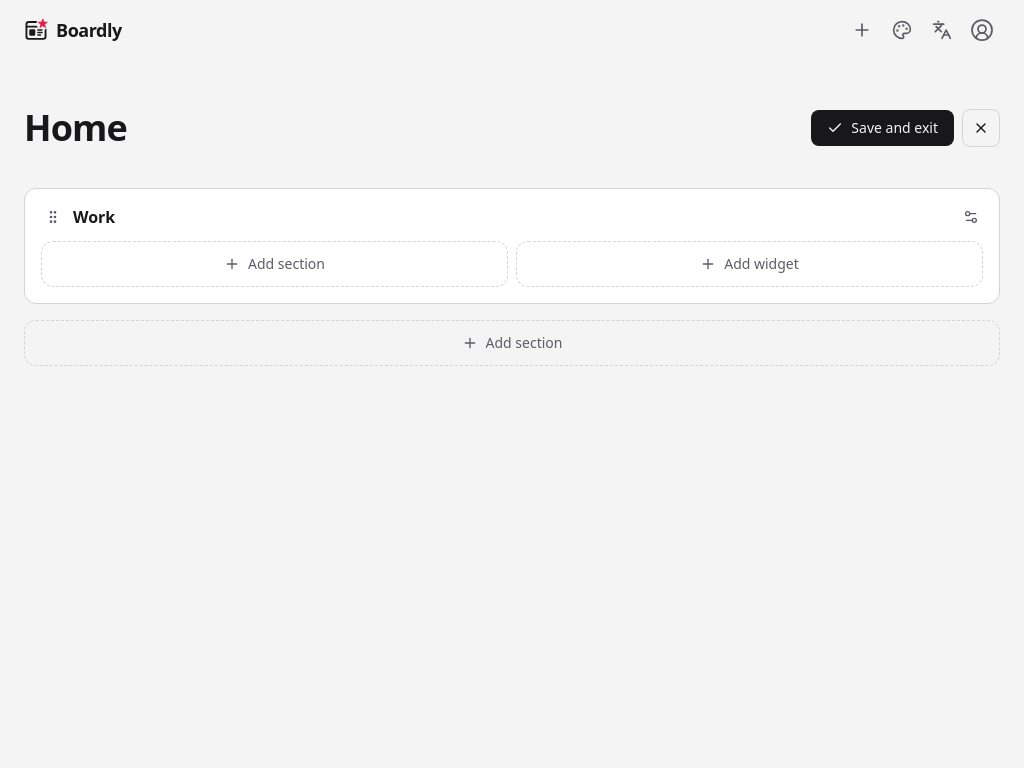
Test case: the favourite explorer on a dashboard › adds nothing when its settings are cancelled
Expected: the button "Save and exit" is shown, [811,110,954,146]
What coordinates should you click on to do the following:
click the button "Add widget"
I would click on:
 (750, 264)
Its box is [516,241,983,287].
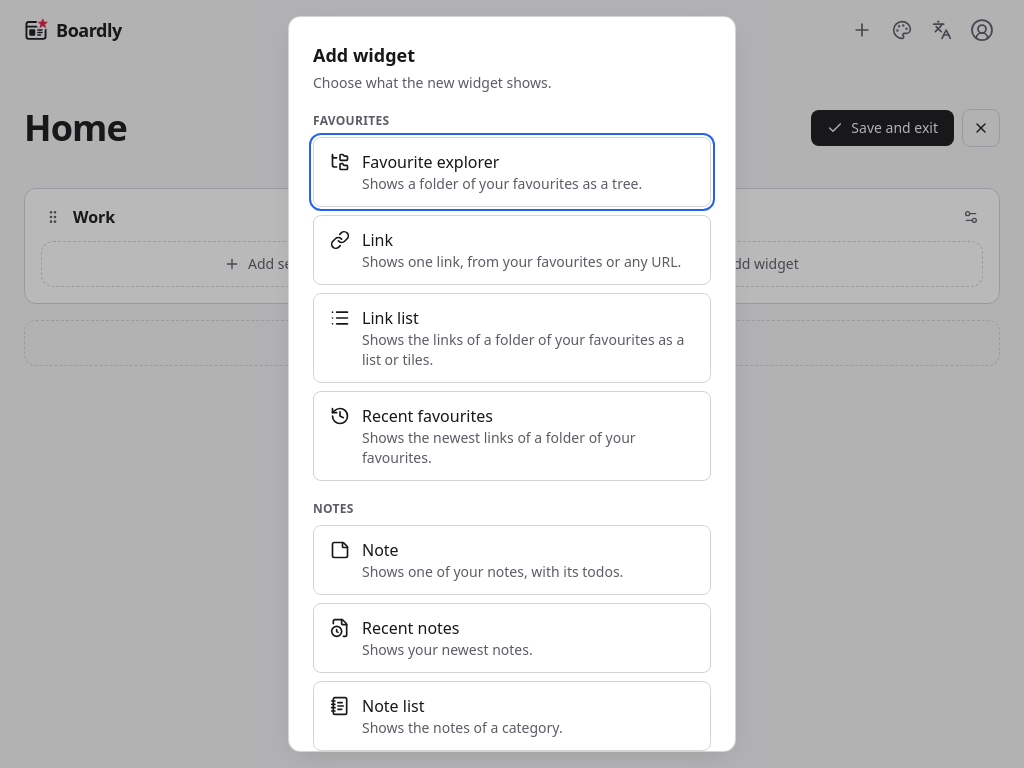
What coordinates should you click on to do the following:
click the button "Favourite explorer"
I would click on:
 (512, 172)
Its box is [313,137,711,207].
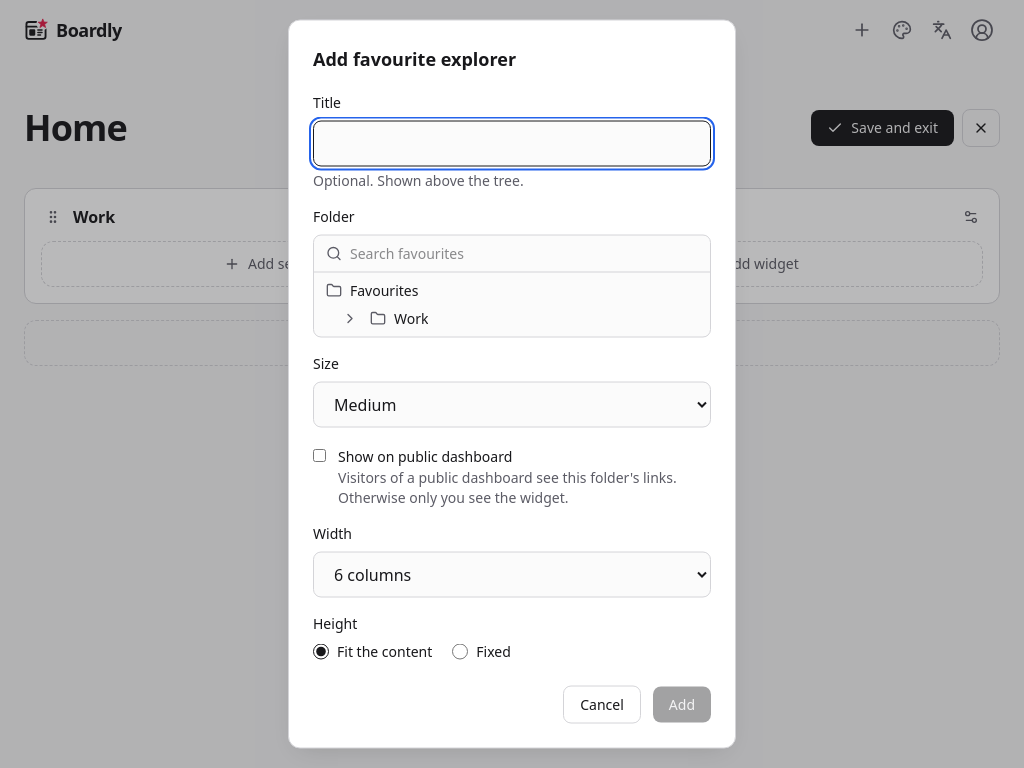
What coordinates should you click on to do the following:
click the button "Cancel"
I would click on:
 (602, 704)
Its box is [563,686,641,724].
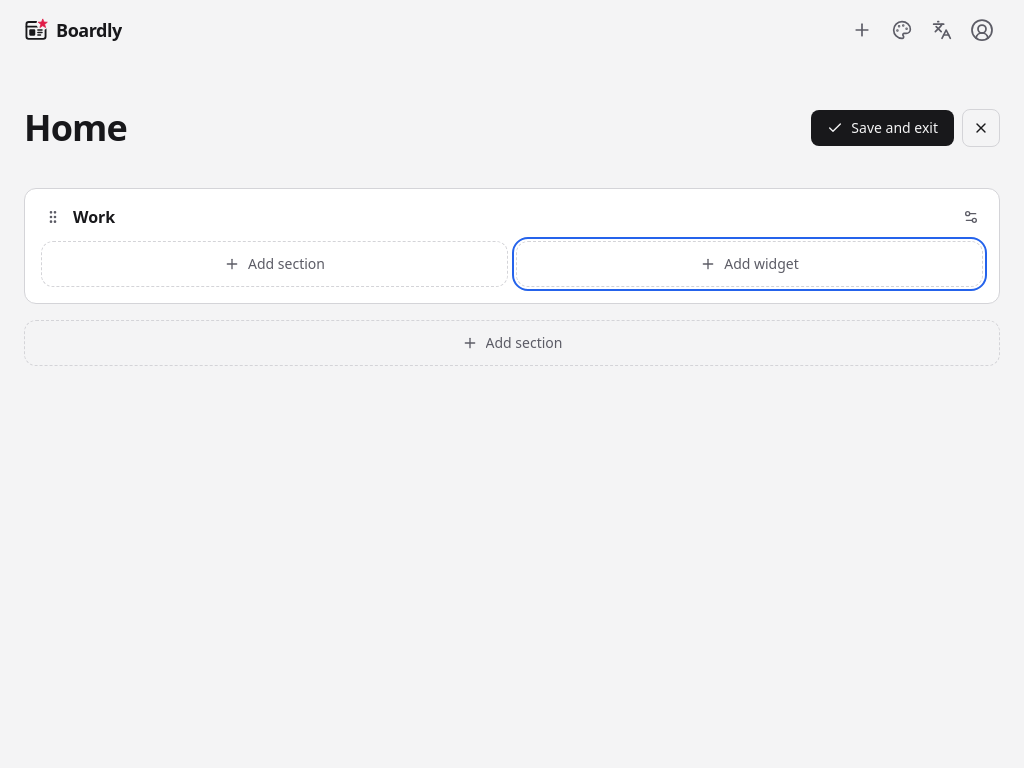
Result: the dialog is gone
